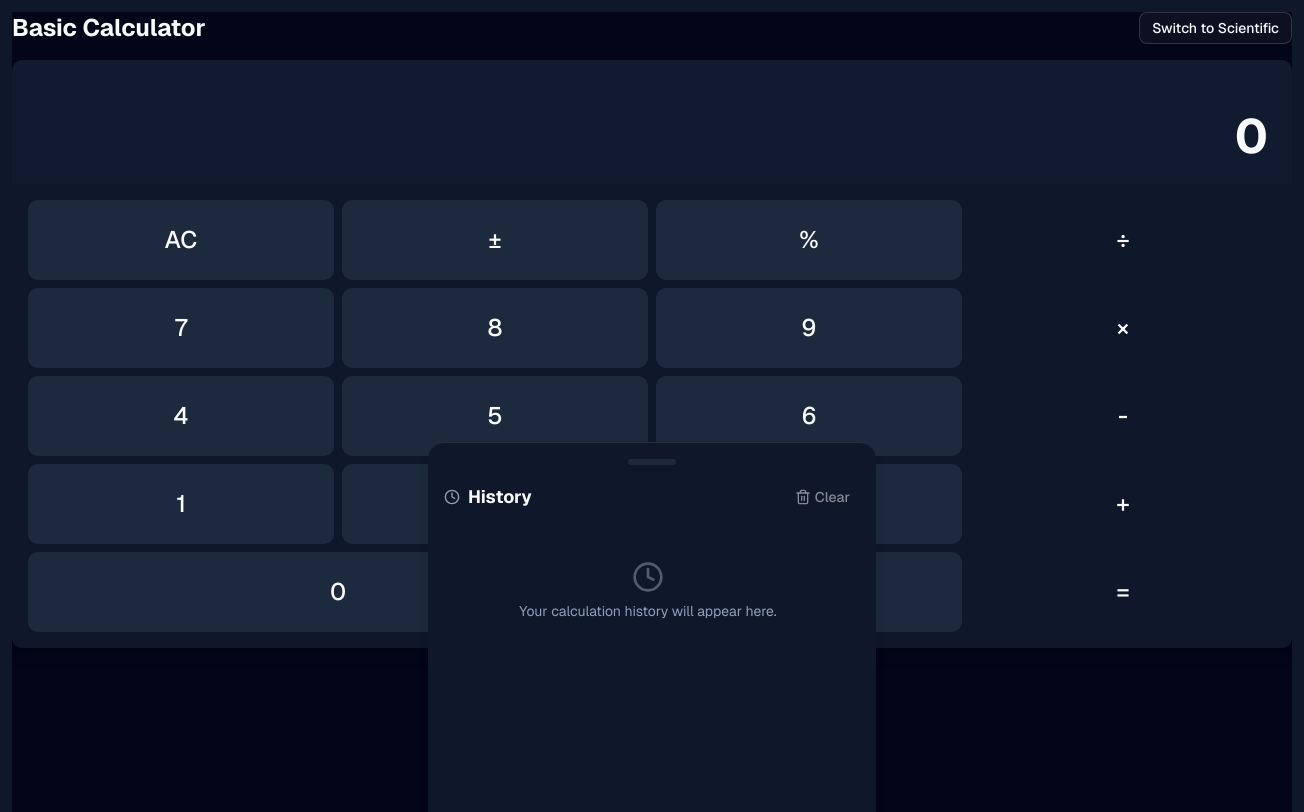
Test: Calculator - Complete Test Suite › Mode Switching › switches back to basic mode
This screenshot has width=1304, height=812.
Click the button with test id "mode-toggle-button": [1216, 28] box [1139,12,1292,44]
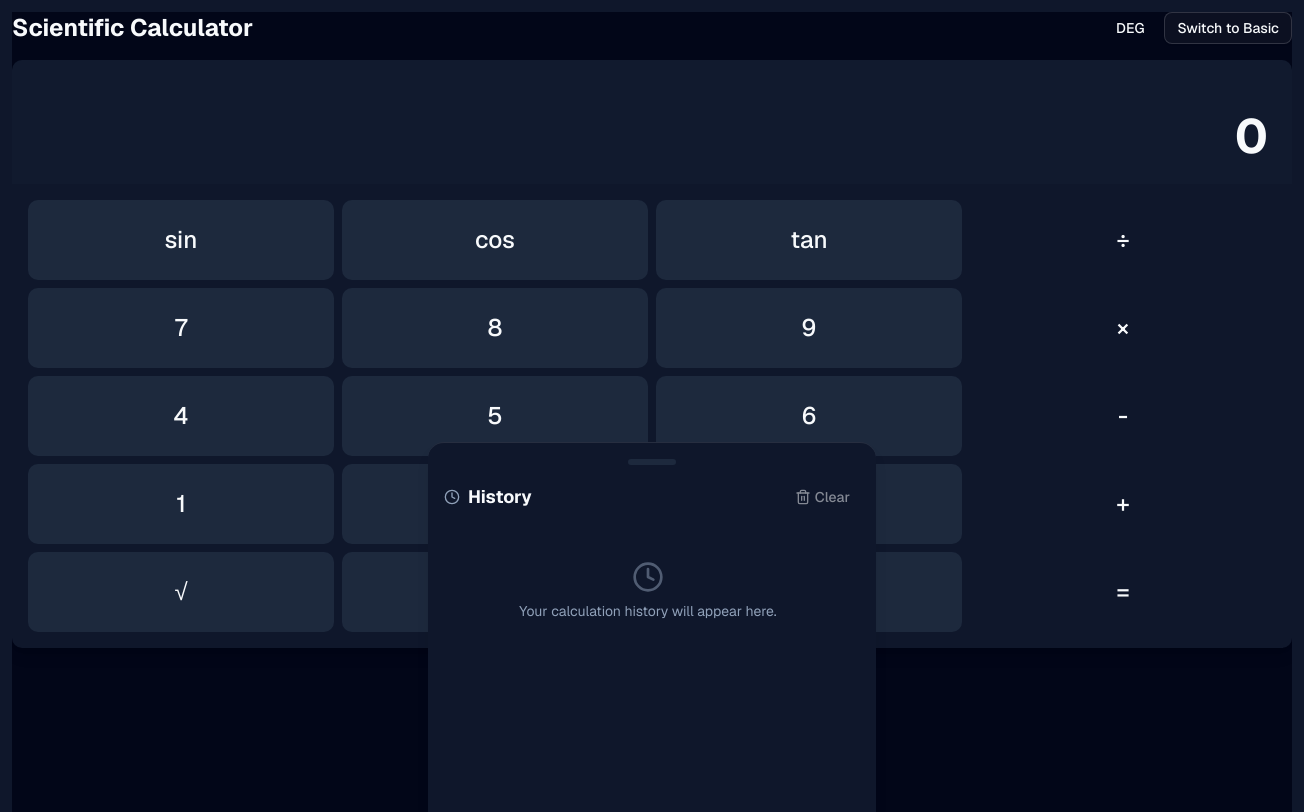
Now the button with test id "mode-toggle-button" shows "Basic"
Click the button with test id "mode-toggle-button": [1228, 28] box [1164,12,1292,44]
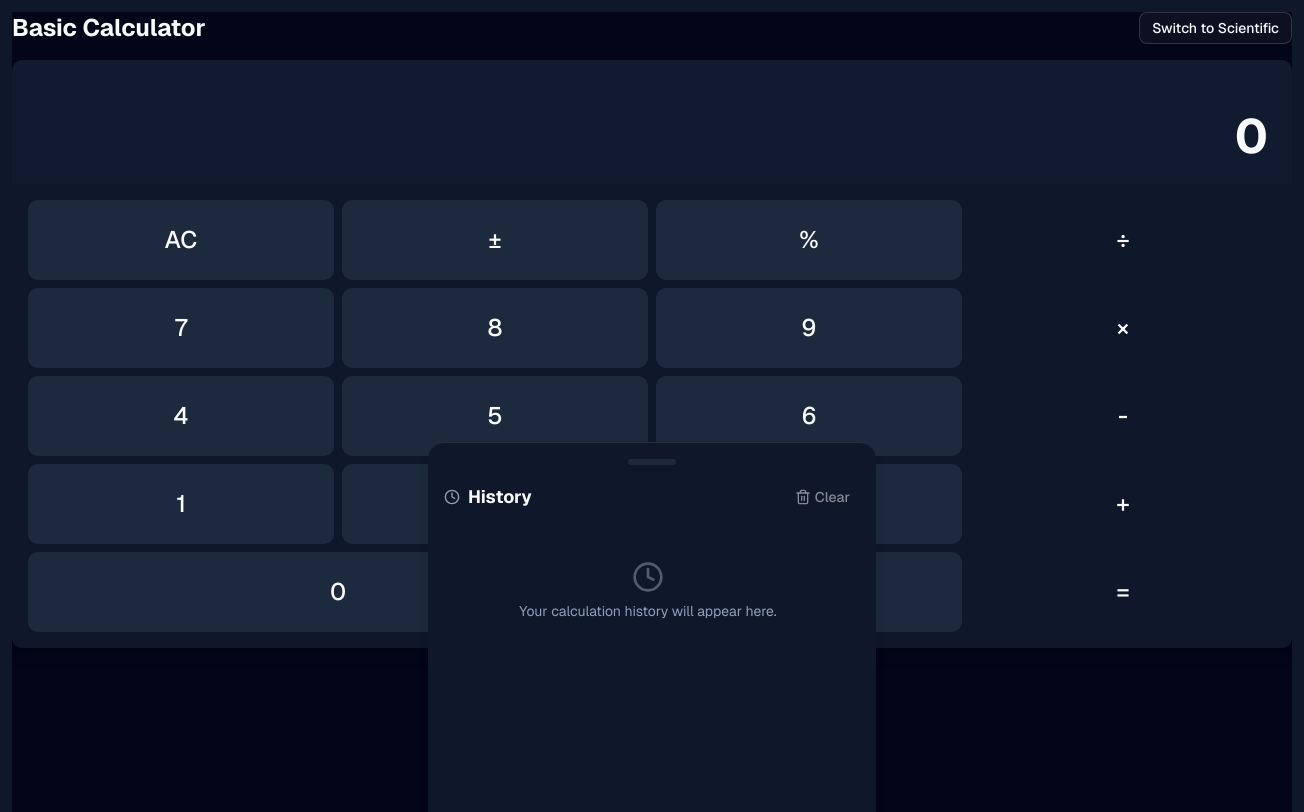
Now the button with test id "mode-toggle-button" shows "Scientific", box [1139,12,1292,44]
